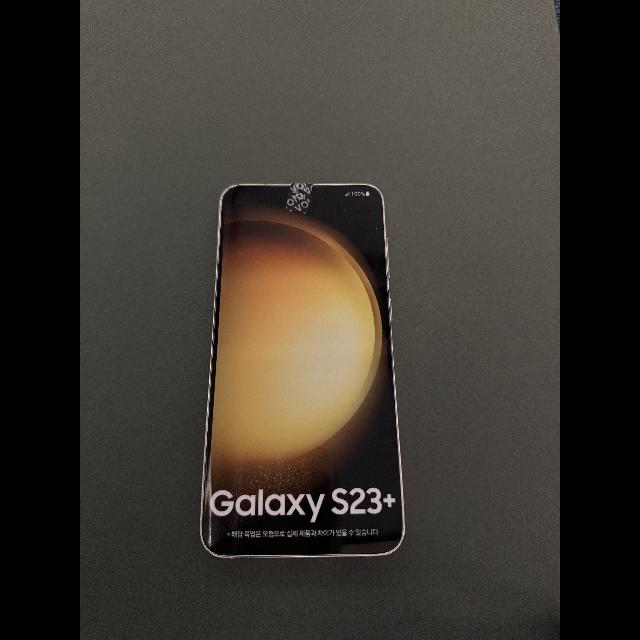phone: (200, 181, 404, 558)
sticker: (285, 182, 315, 217)
